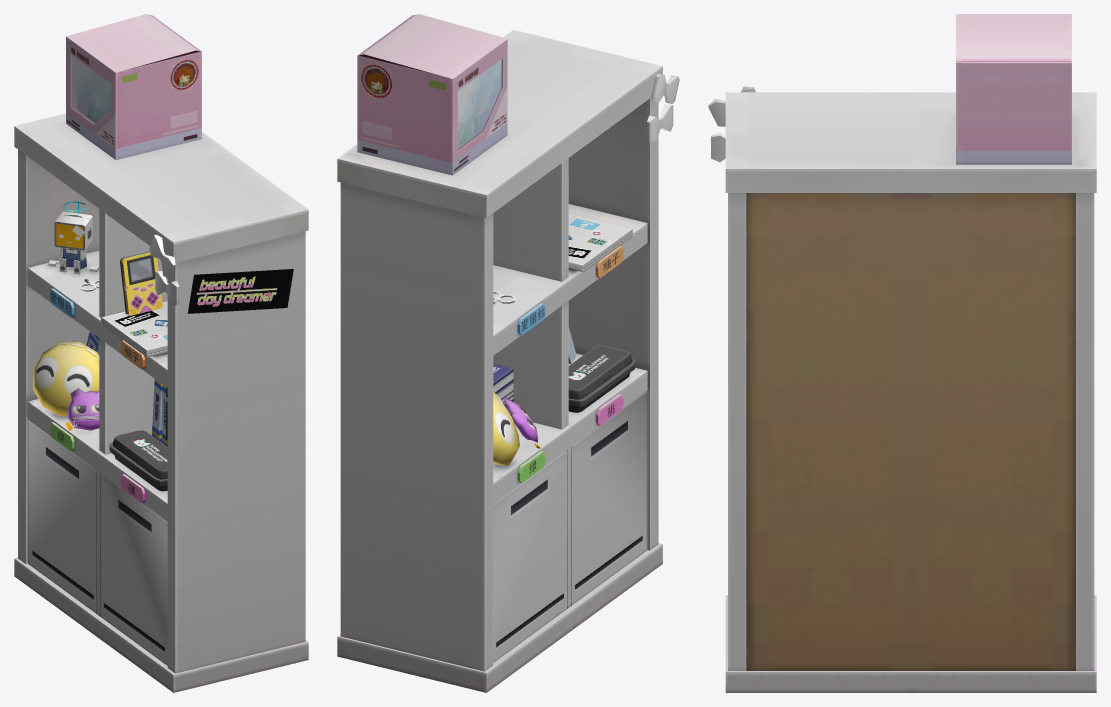
The model's file is my_gamedevdept_01_bookshelf_01.glb.
3 views of the same model, side by side, from view 1: azimuth 30°, elevation 25°; view 2: azimuth 150°, elevation 25°; view 3: azimuth 270°, elevation 25° (orthographic). The views are drawn at different scales.
Parts seen in each view (by area): view 1: my_gamedevdept_01_bookshelf_01; view 2: my_gamedevdept_01_bookshelf_01; view 3: my_gamedevdept_01_bookshelf_01.
Part boxes in pixels (x1,y1,x2,y2): my_gamedevdept_01_bookshelf_01: (14,14,308,692); my_gamedevdept_01_bookshelf_01: (337,14,679,692); my_gamedevdept_01_bookshelf_01: (708,14,1096,692).
Bounding box in the file's own units: 0.00447 × 0.016 × 0.00893.
2 materials, 2 textured.
